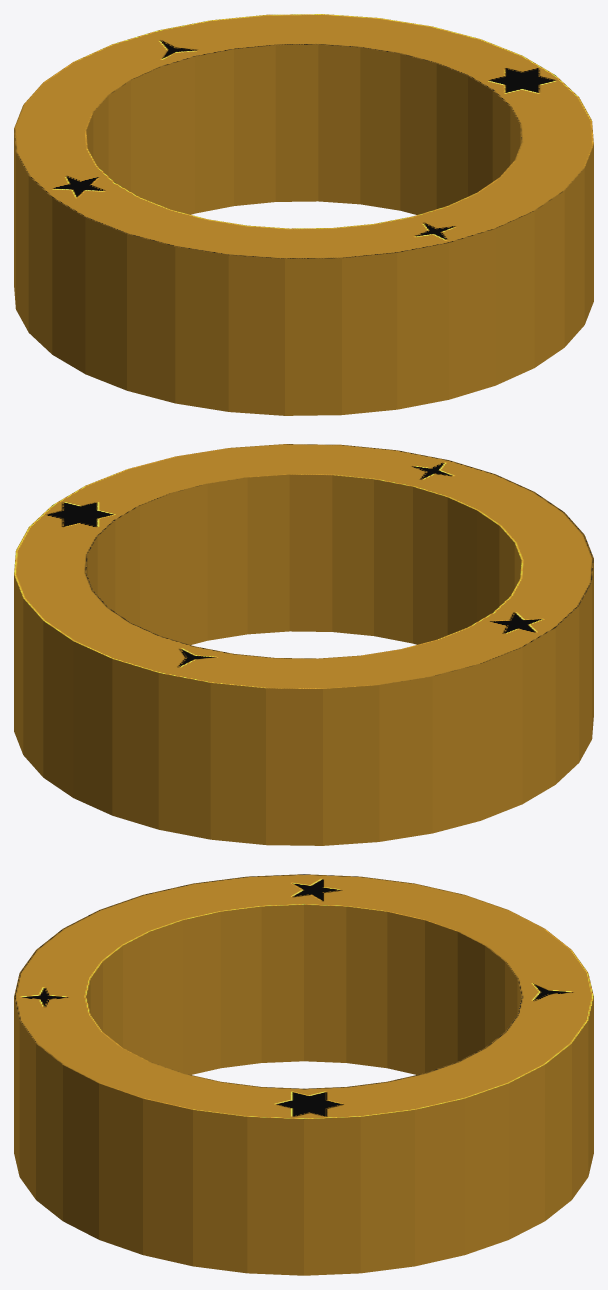
File: InmostPiece.fbx
The picture shows the model from 3 angles, top to bottom: view 1: azimuth 30°, elevation 25°; view 2: azimuth 150°, elevation 25°; view 3: azimuth 270°, elevation 25°; orthographic projection.
Visible parts, largest first — view 1: RingInmostPiece; view 2: RingInmostPiece; view 3: RingInmostPiece.
Boxes of the visible parts, bbox=[...] form: RingInmostPiece: bbox=[14, 14, 593, 415]; RingInmostPiece: bbox=[14, 444, 593, 845]; RingInmostPiece: bbox=[14, 874, 593, 1275].
Bounding box in the file's own units: 84 × 25 × 84.
